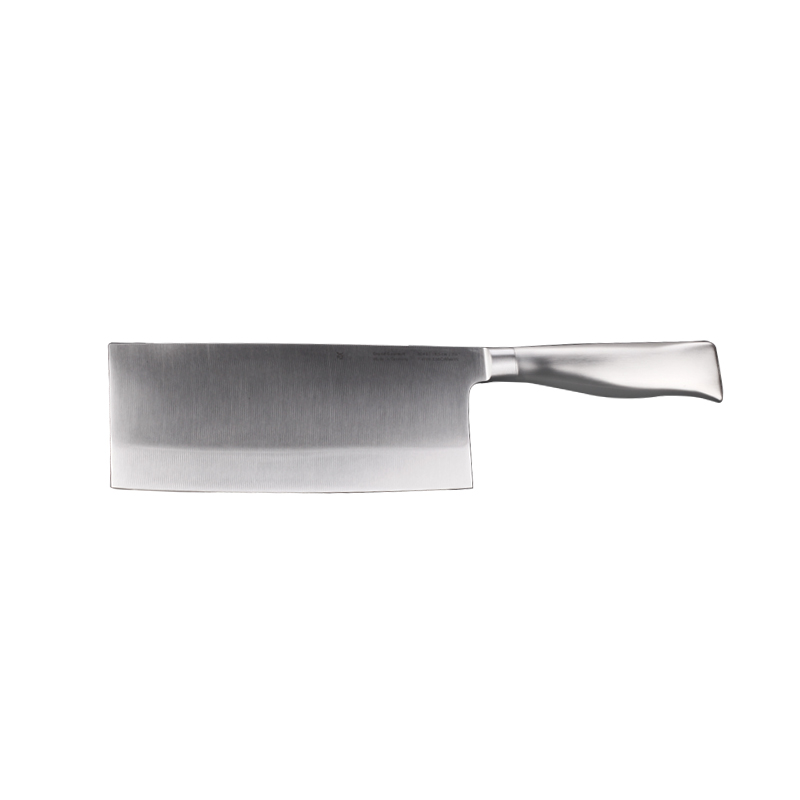knief: (85, 290, 745, 525)
